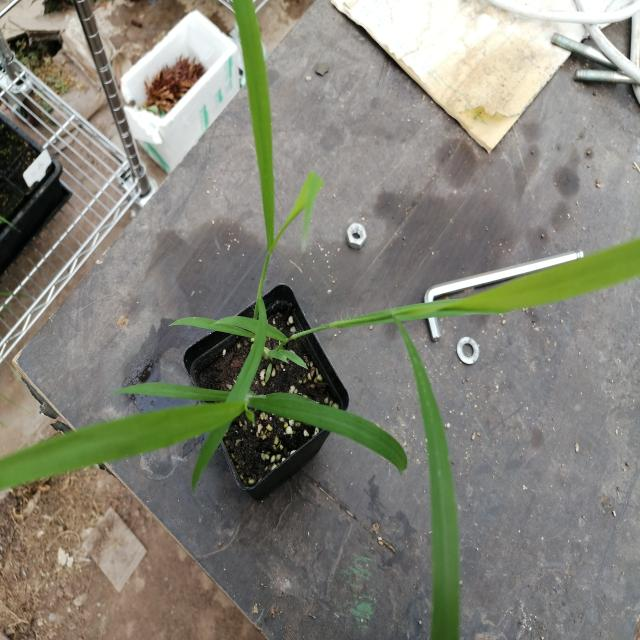crabgrass: (187, 0, 343, 354), (11, 361, 383, 509)
